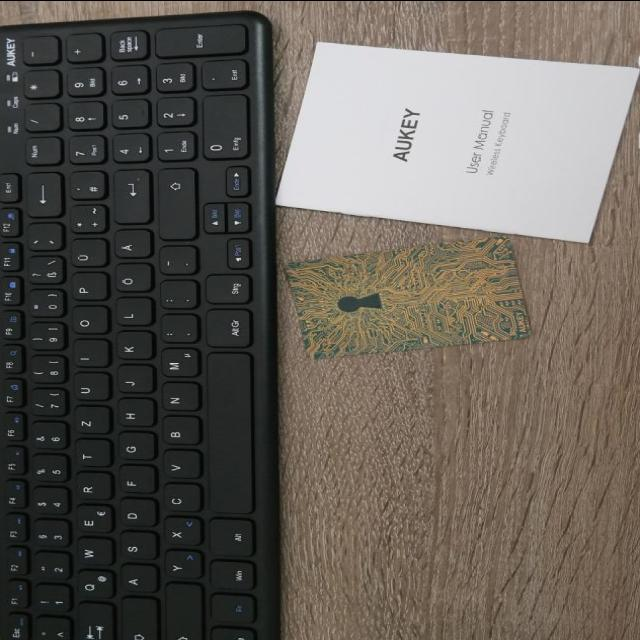0: (25, 289, 63, 319)
1: (31, 585, 69, 613)
2: (30, 552, 68, 581)
3: (30, 520, 68, 549)
4: (30, 488, 66, 515)
5: (28, 455, 66, 484)
6: (27, 422, 65, 451)
7: (26, 389, 64, 417)
8: (26, 355, 64, 385)
9: (25, 322, 63, 352)
a: (117, 565, 155, 594)
accent: (24, 224, 60, 253)
ae: (110, 230, 150, 260)
alt-left: (205, 518, 253, 557)
altgr-right: (202, 309, 250, 349)
b: (159, 417, 197, 447)
c: (160, 484, 198, 514)
caret: (31, 617, 69, 640)
comma: (157, 315, 195, 345)
d: (116, 499, 154, 528)
del: (23, 173, 61, 219)
e: (72, 506, 110, 535)
enter: (109, 170, 149, 225)
f: (116, 466, 154, 495)
g: (115, 433, 153, 462)
h: (113, 399, 153, 428)
hash: (66, 171, 104, 201)
i: (69, 340, 107, 369)
j: (114, 366, 152, 395)
k: (113, 331, 151, 361)
keyboard: (0, 4, 282, 640)
l: (111, 298, 151, 327)
m: (157, 348, 197, 379)
minus: (156, 246, 194, 277)
n: (158, 383, 198, 413)
o: (68, 306, 106, 336)
oe: (112, 264, 150, 294)
p: (68, 273, 106, 302)
plus: (66, 205, 104, 235)
point: (157, 281, 195, 311)
q: (73, 571, 111, 601)
r: (72, 473, 110, 501)
s: (117, 532, 155, 561)
shift-left: (160, 584, 200, 640)
shift-lock: (117, 598, 156, 640)
shift-right: (154, 169, 194, 241)
space: (203, 353, 251, 516)
ss: (24, 257, 62, 286)
strg-left: (207, 627, 255, 640)
strg-right: (202, 274, 250, 305)
t: (71, 440, 109, 468)
tab: (74, 604, 114, 640)
u: (70, 373, 108, 403)
ue: (67, 239, 105, 269)
v: (159, 451, 199, 480)
w: (72, 539, 110, 567)
x: (160, 518, 198, 547)
y: (162, 551, 200, 580)
z: (70, 407, 108, 436)
